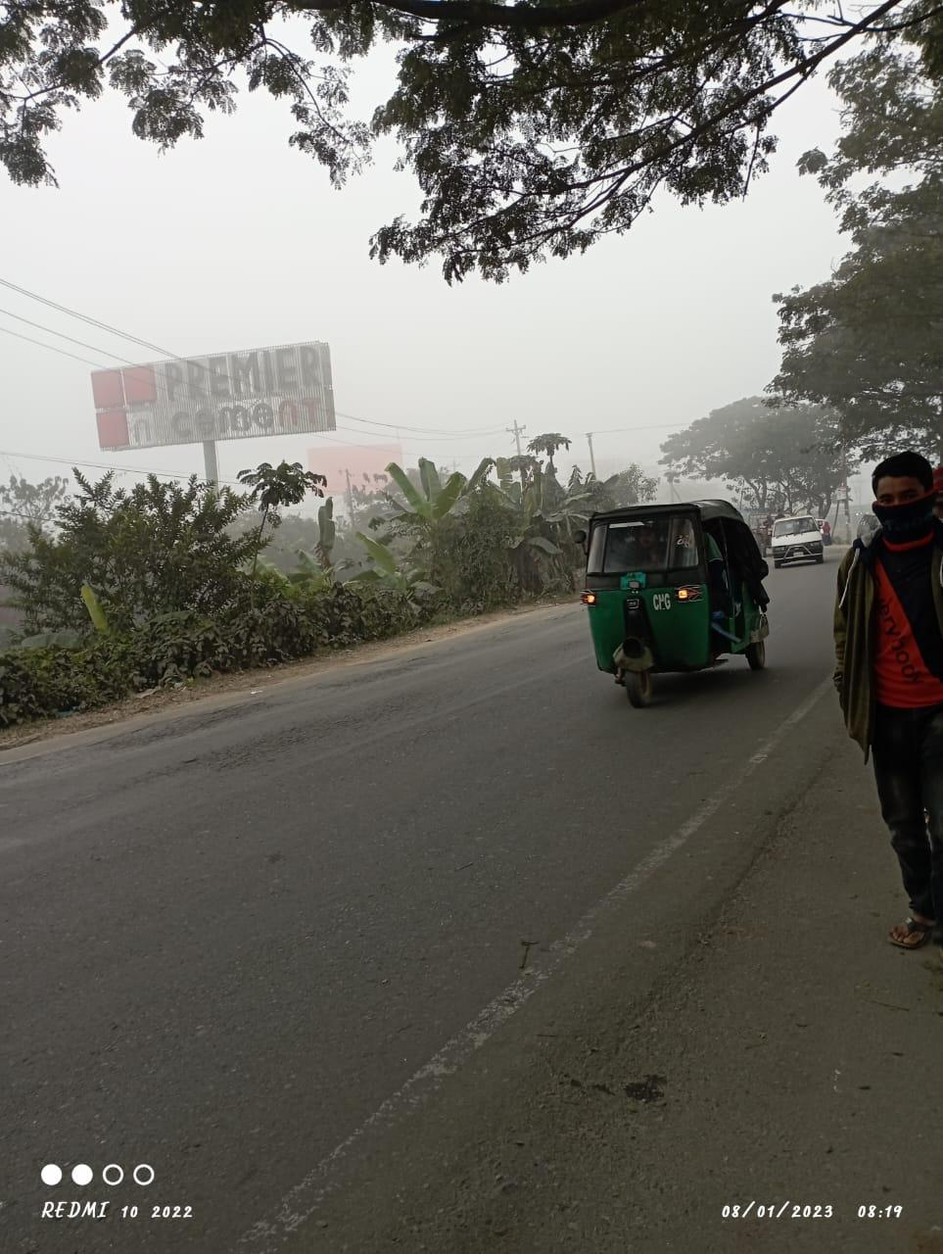Car: (765, 510, 828, 569)
